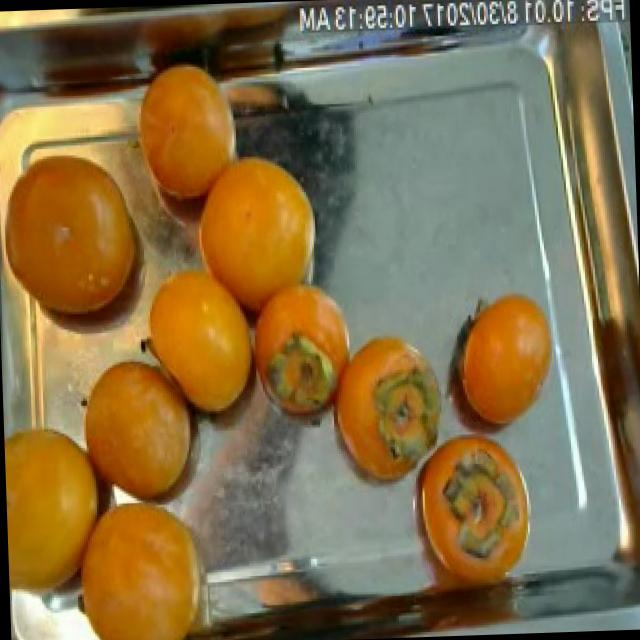Fruit: (174, 128, 338, 332), (123, 240, 270, 439), (64, 336, 214, 525), (115, 38, 252, 228), (320, 316, 456, 506), (406, 422, 544, 594), (430, 276, 570, 445)
